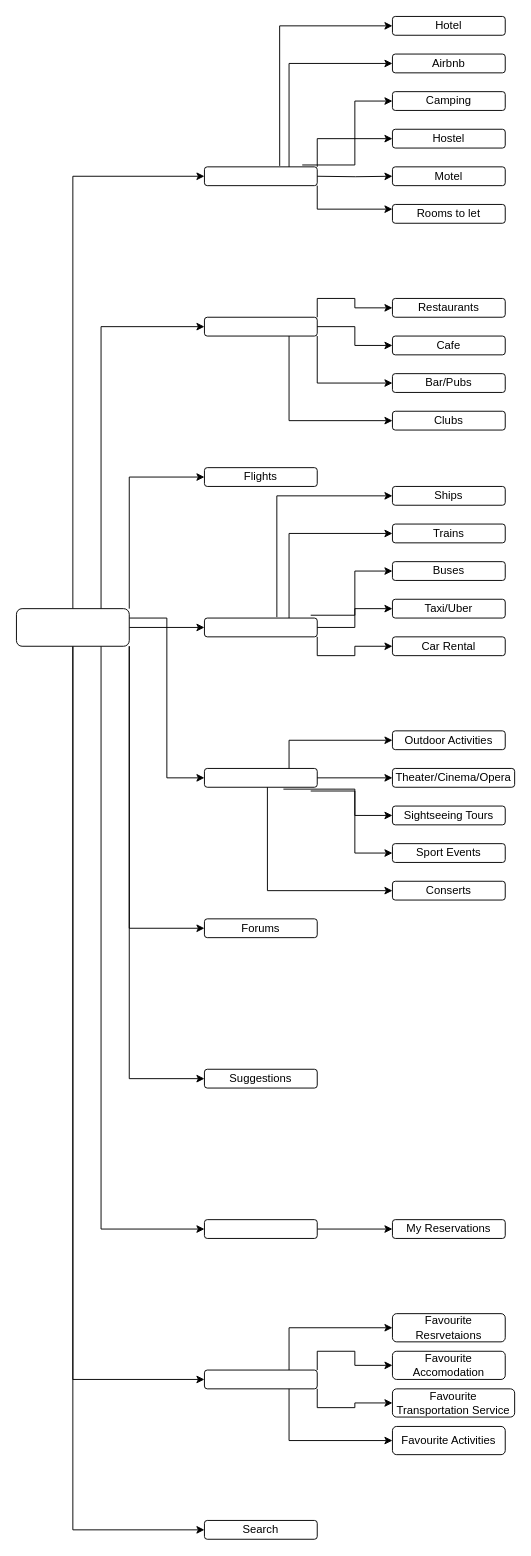
Image size: 531x1556. Some labels were removed from this diagram. Each missing label, with the centre of its shape:
"Accomodation" belongs at (x=260, y=176).
"Activities" belongs at (x=260, y=777).
"Favourites" belongs at (x=260, y=1379).
"Food/Cafe/Nightlife" belongs at (x=260, y=326).
"Profile" belongs at (x=260, y=1228).
"Transportation" belongs at (x=260, y=627).
"User" belongs at (x=72, y=627).
